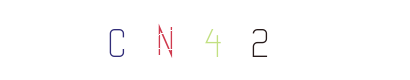2: (165, 0, 245, 80)
4: (150, 0, 230, 80)
C: (128, 0, 208, 80)
N: (146, 0, 226, 80)
